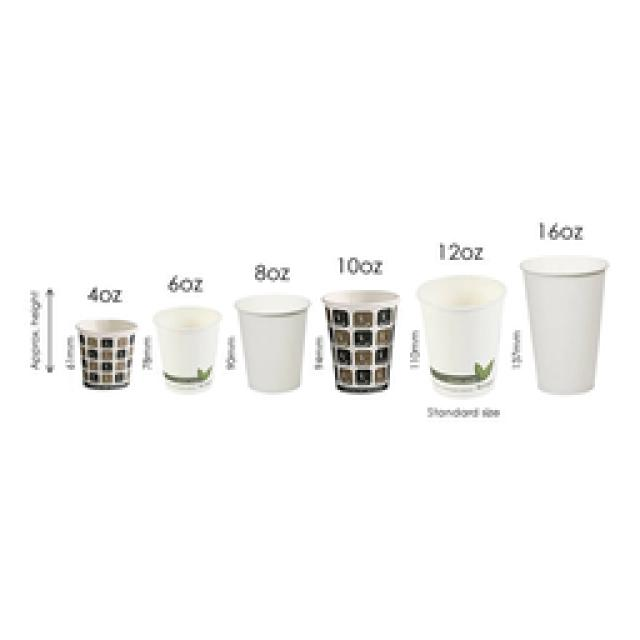paper_cups: (523, 253, 609, 394), (418, 272, 508, 398), (317, 283, 403, 396), (235, 292, 311, 394), (157, 307, 221, 395), (69, 318, 141, 392)
